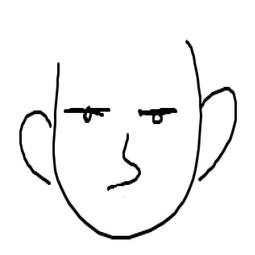large_ear: (194, 86, 241, 188), (19, 105, 54, 186)
large_nose: (99, 127, 146, 194)
small_eye: (65, 104, 114, 127), (135, 105, 175, 127)
